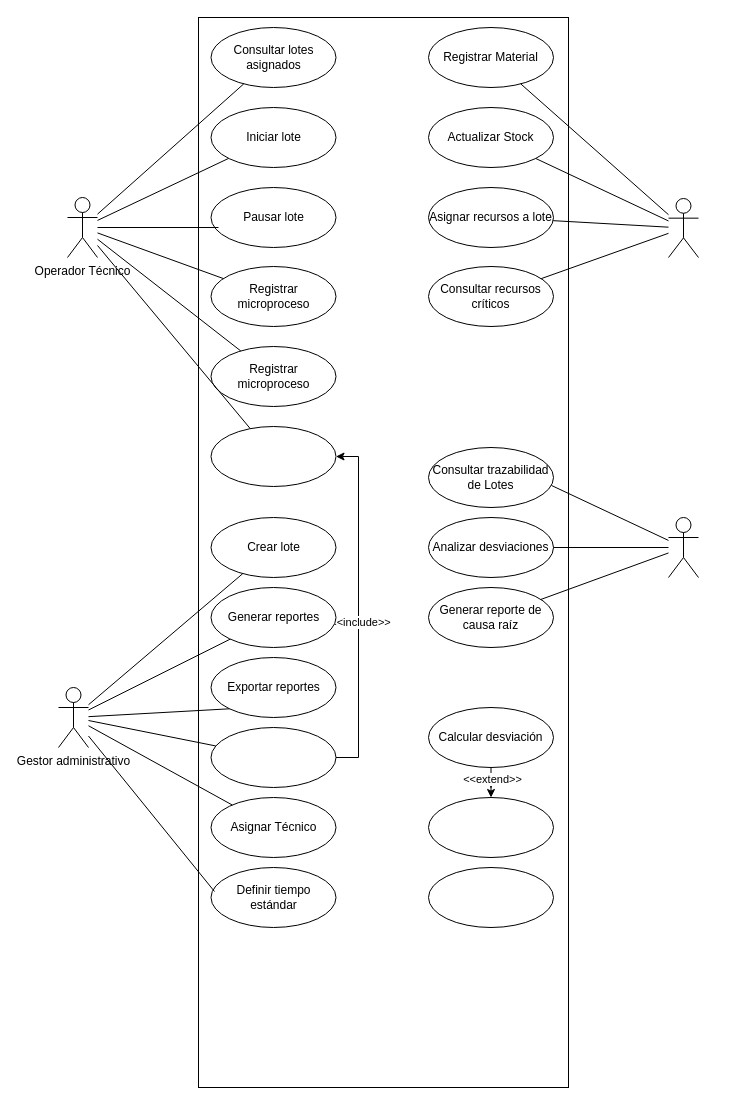
The diagram is 752 pixels wide and 1105 high, and some of its shapes have lost their labels. The centre of each missing label's shape, as x and y in pixels:
Actualizar métricas: (x=491, y=897)
Consultar dashboard: (x=273, y=757)
Consultar métricas personales: (x=273, y=456)
Generar alerta: (x=491, y=827)
Gestor de recursos: (x=683, y=228)
Área de calidad: (x=683, y=547)
